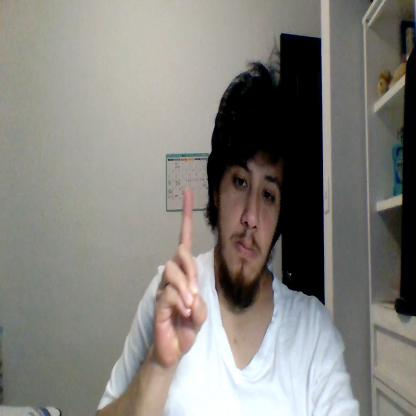D: (154, 189, 206, 365)
